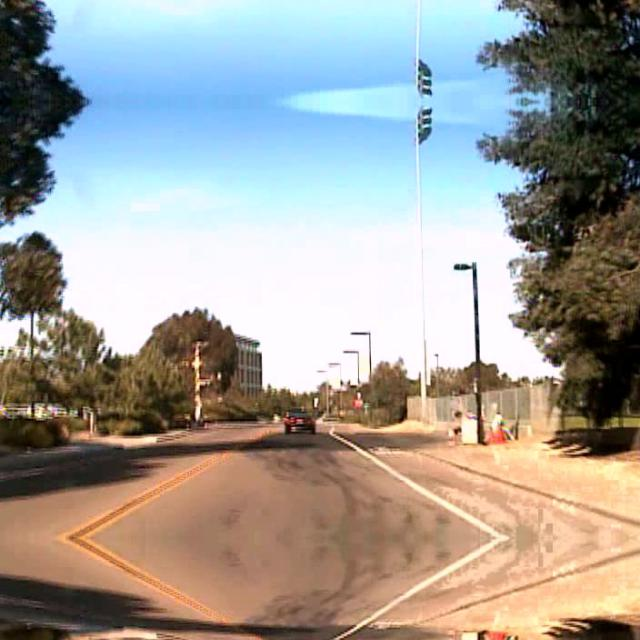stop: (353, 396, 363, 406)
